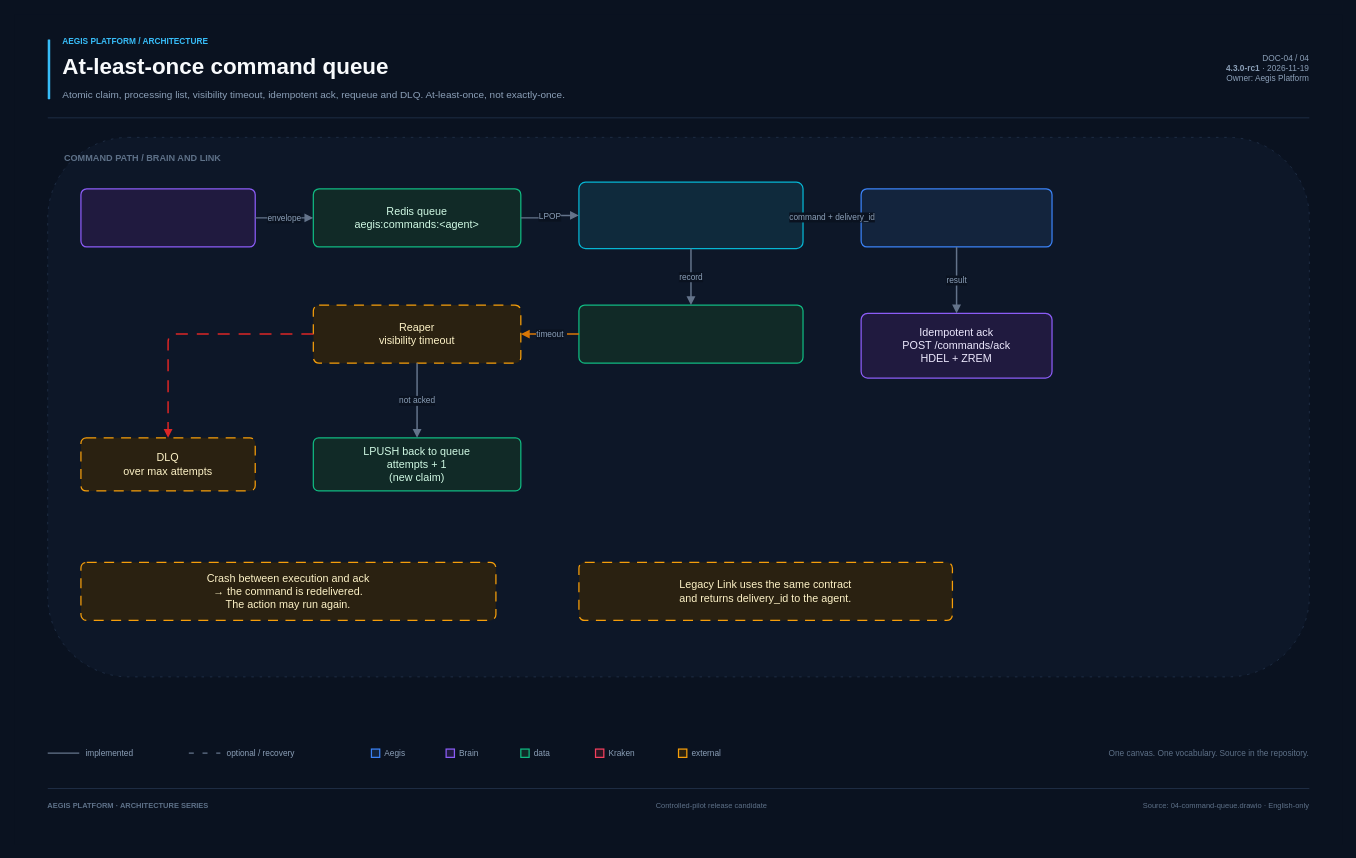
This 1356x858 diagram has some shape labels left out. The shapes that lost their labels are listed below. From the top down, each one's centre as x and y in pixels, then its label:
the point at 167,217: Brain / playbook enqueue
the point at 690,215: Atomic claim LPOP + HSET + ZADD
the point at 956,217: Agent executes the command
the point at 690,333: Processing list delivery_id → raw
